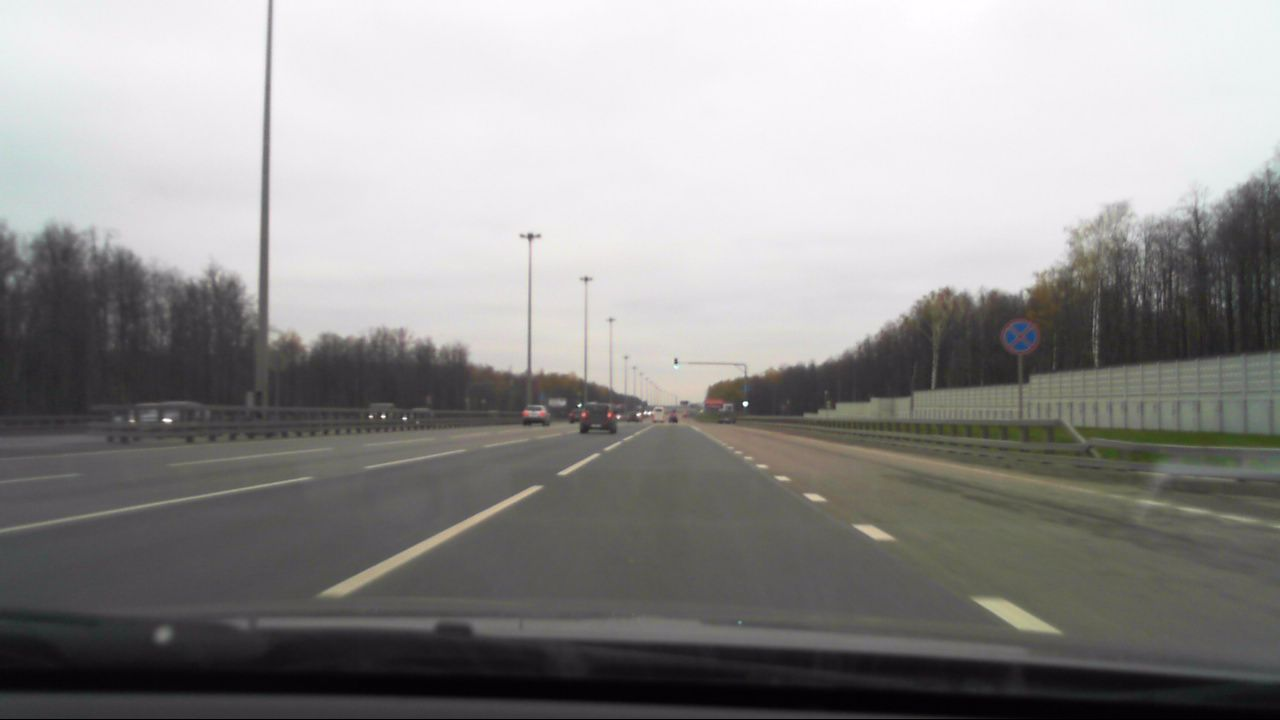No Parking: (1001, 314, 1040, 352)
